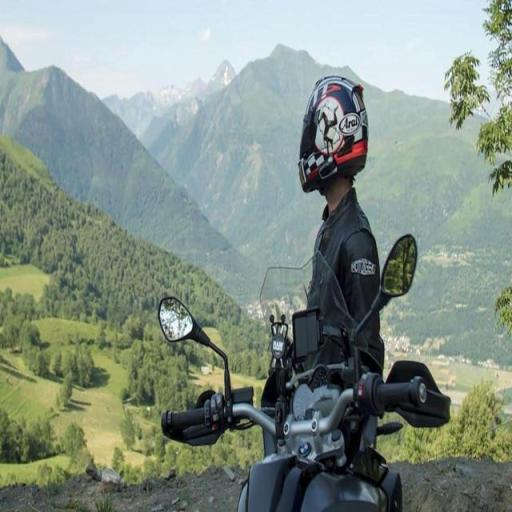Helmet: (275, 52, 372, 194)
Motor: (173, 243, 423, 512)
